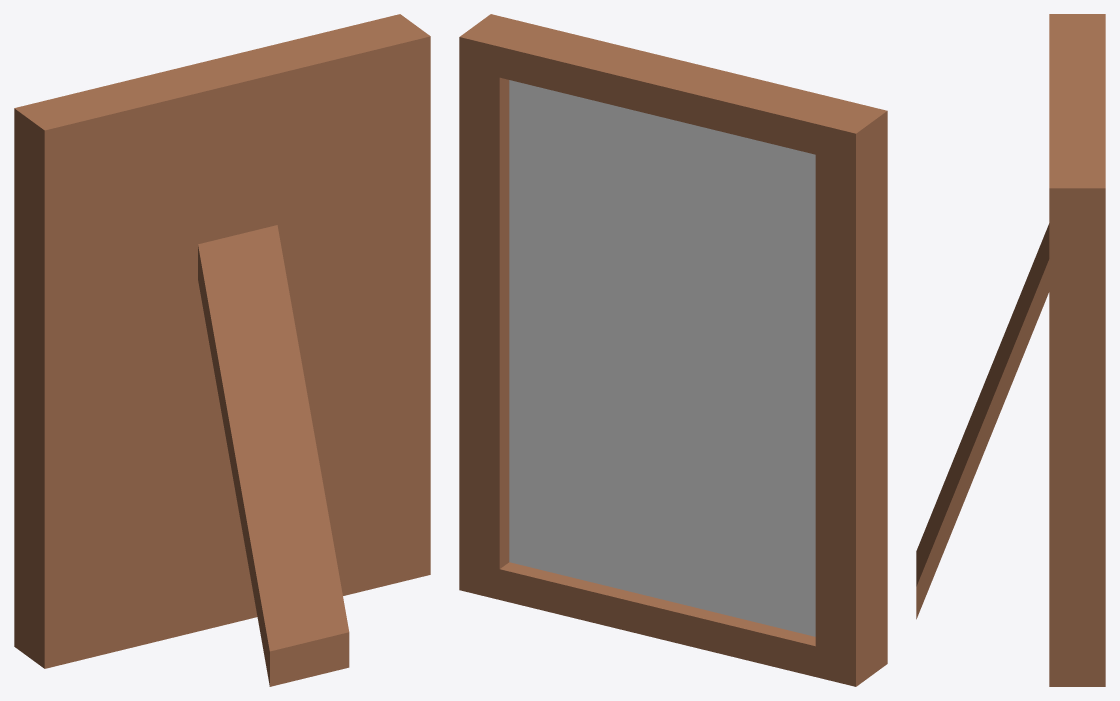
The model's file is Photo.fbx.
The picture shows the model from 3 angles, left to right: view 1: azimuth 30°, elevation 25°; view 2: azimuth 150°, elevation 25°; view 3: azimuth 270°, elevation 25°; orthographic projection. The views are drawn at different scales.
Visible parts, largest first — view 1: Pic; view 2: Pic; view 3: Pic.
Boxes of the visible parts, bbox=[...] form: Pic: bbox=[14, 14, 430, 686]; Pic: bbox=[459, 14, 887, 686]; Pic: bbox=[916, 14, 1105, 686].
Bounding box in the file's own units: 44.63 × 59.8 × 20.5.
